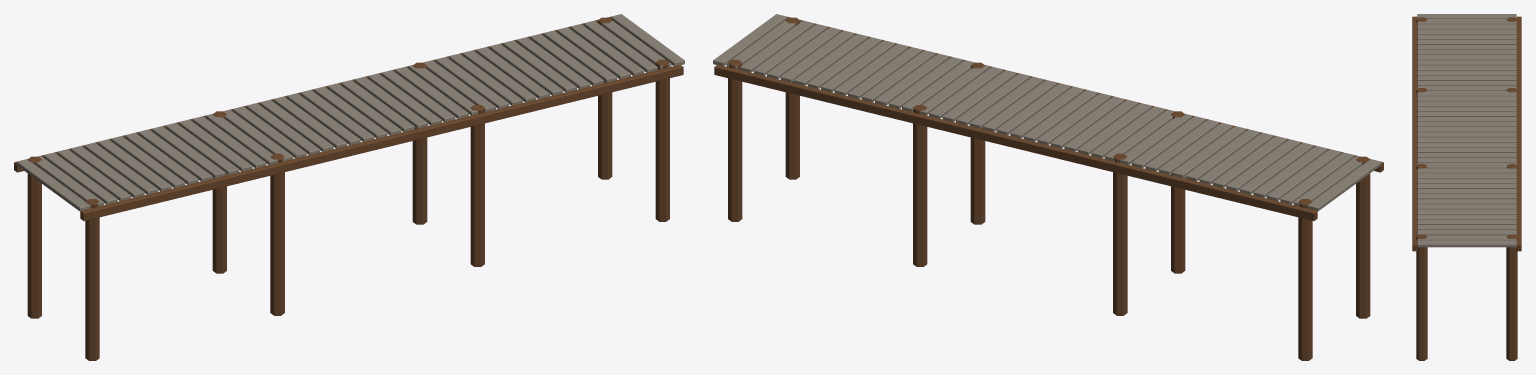
Rendered from brygga.glb.
3 views of the same model, side by side, from view 1: azimuth 30°, elevation 25°; view 2: azimuth 150°, elevation 25°; view 3: azimuth 270°, elevation 25° (orthographic). The views are drawn at different scales.
Visible parts, largest first — view 1: brygga; view 2: brygga; view 3: brygga.
Part boxes in pixels (x1,y1,x2,y2): brygga: (14,14,684,360); brygga: (713,14,1383,360); brygga: (1412,14,1521,360).
Bounding box in the file's own units: 12.1 × 3 × 2.42.
